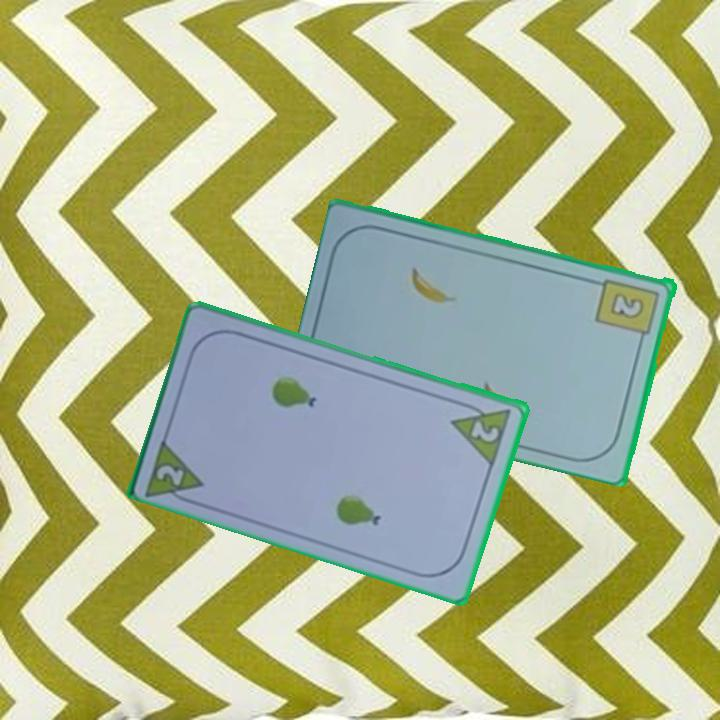2b: (593, 274, 663, 346)
2p: (448, 397, 515, 469), (152, 460, 188, 489)
